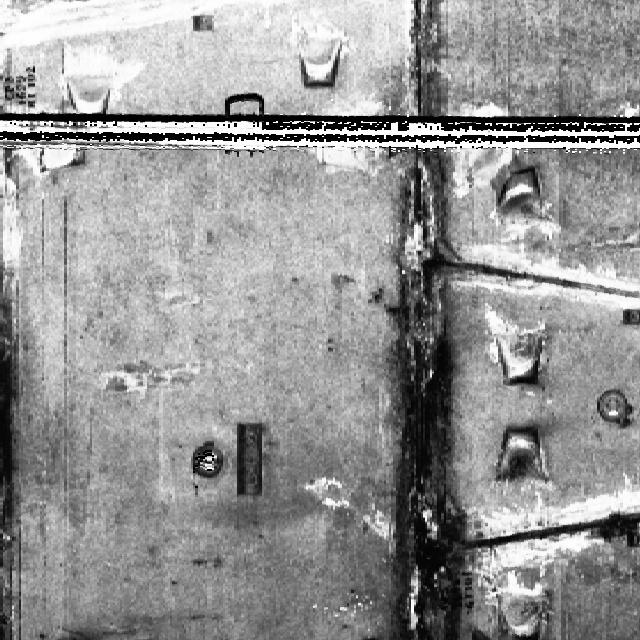leakage: (374, 5, 481, 639)
